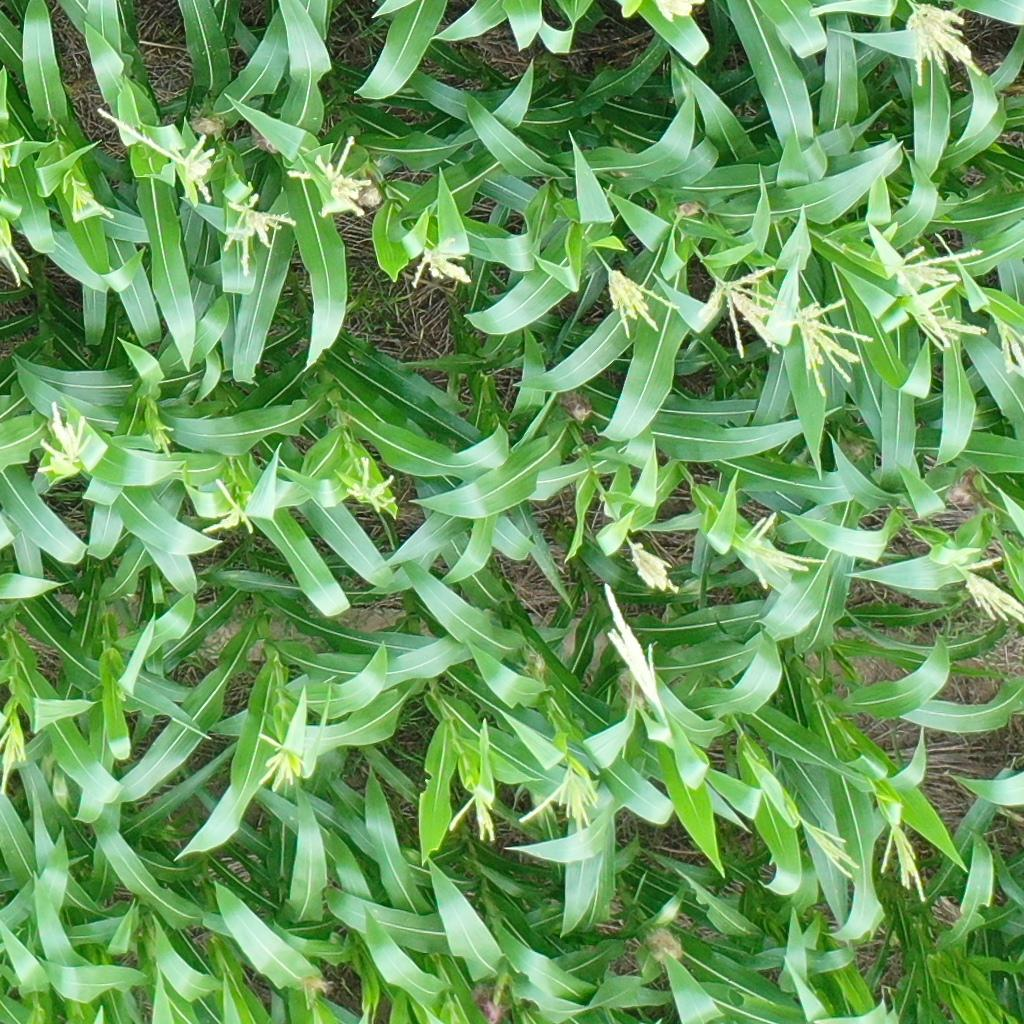Tassel: (95, 104, 219, 204), (698, 262, 786, 360), (599, 584, 668, 708), (791, 295, 872, 400), (733, 507, 830, 593), (285, 133, 376, 221), (904, 1, 990, 85), (514, 757, 603, 833), (216, 192, 296, 276), (603, 265, 681, 344), (888, 233, 983, 296), (901, 291, 990, 355), (952, 550, 1024, 629), (798, 808, 865, 884), (877, 820, 932, 905), (30, 401, 93, 475), (194, 474, 258, 538), (409, 235, 477, 294), (443, 780, 503, 842), (341, 454, 400, 516), (253, 731, 306, 792), (627, 537, 676, 597), (1, 212, 32, 292), (1, 718, 32, 797), (65, 174, 114, 223), (996, 319, 1024, 381), (142, 416, 177, 458), (653, 1, 707, 25), (1, 134, 23, 183)
